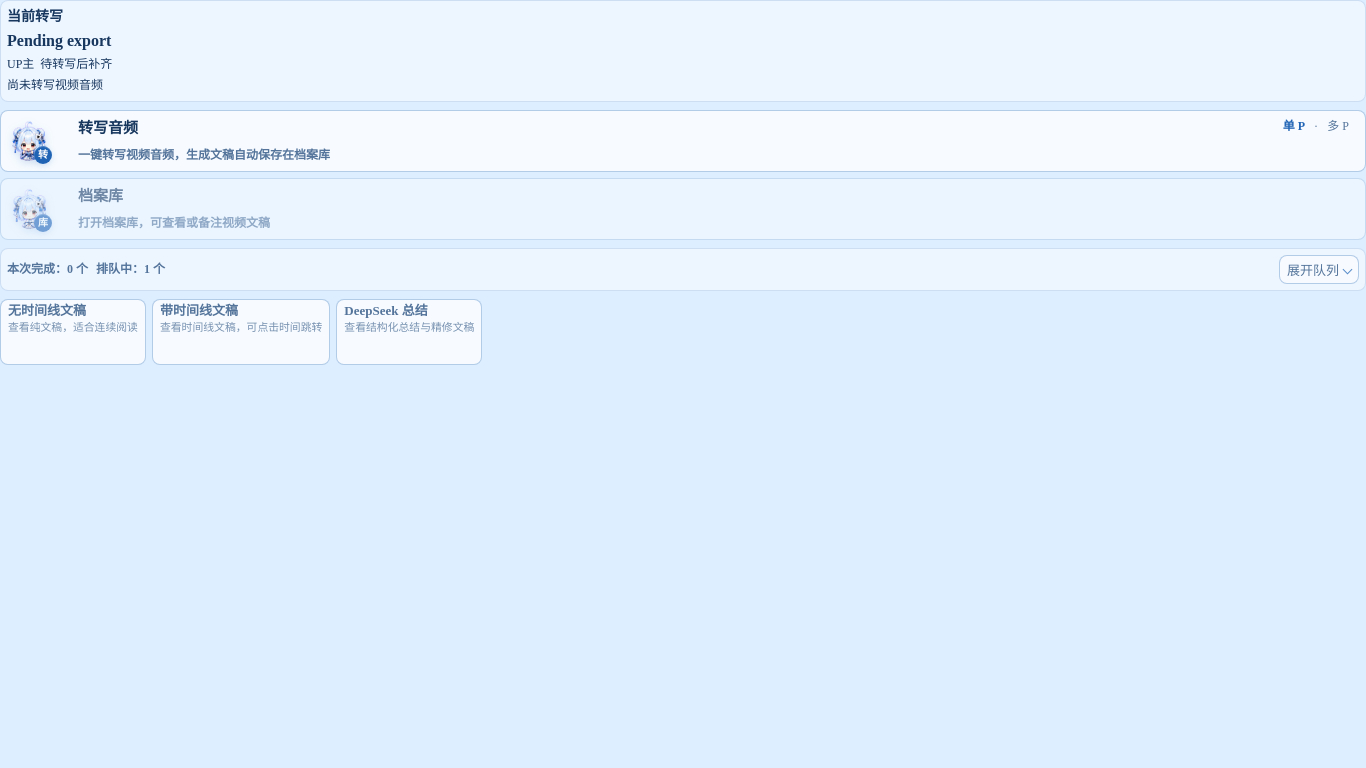
Test: VideoNotesPanel transcription queue › opens the export preview for one-account unresolved selections so their skipped count is visible
Click the button with aria-label "展开转写队列": (1319, 269) [1279,255,1359,284]
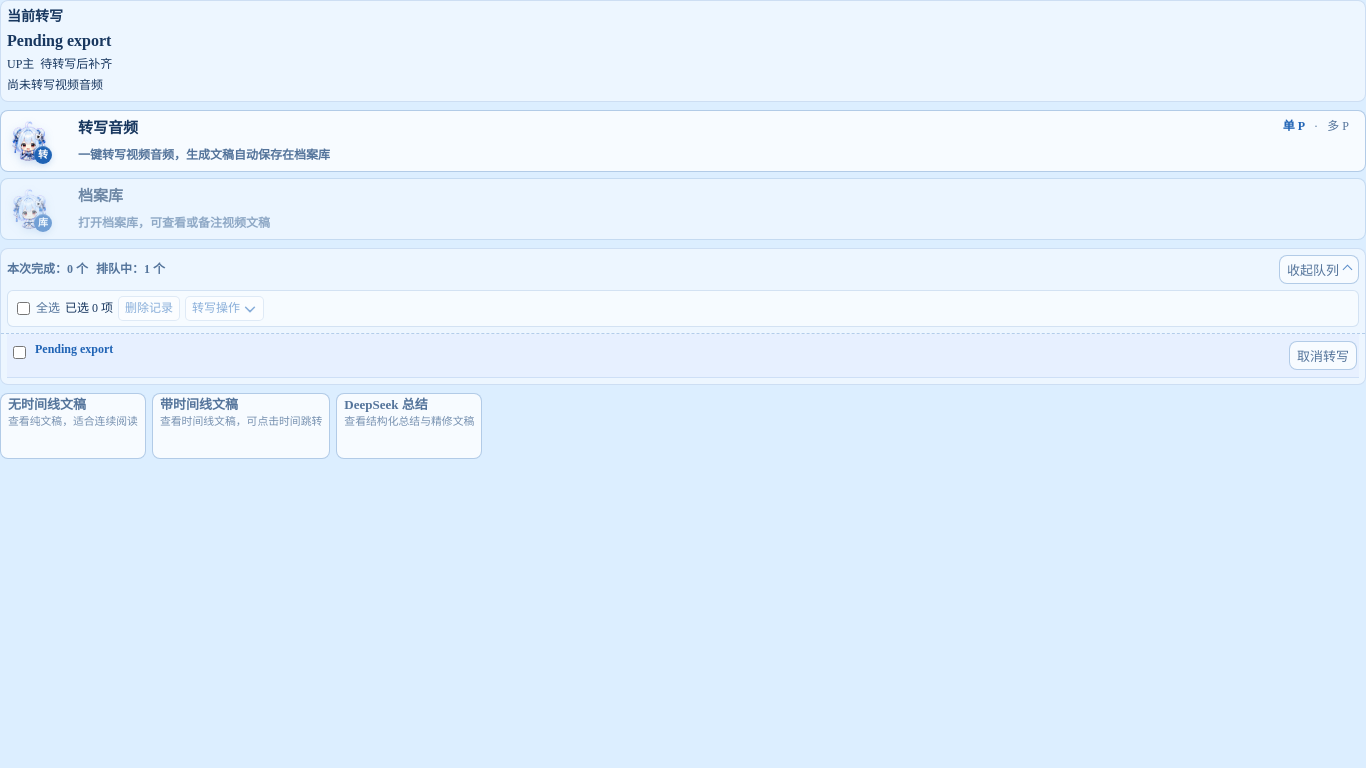
Click the checkbox named "选择 Pending export": (20, 353) [13,346,26,359]
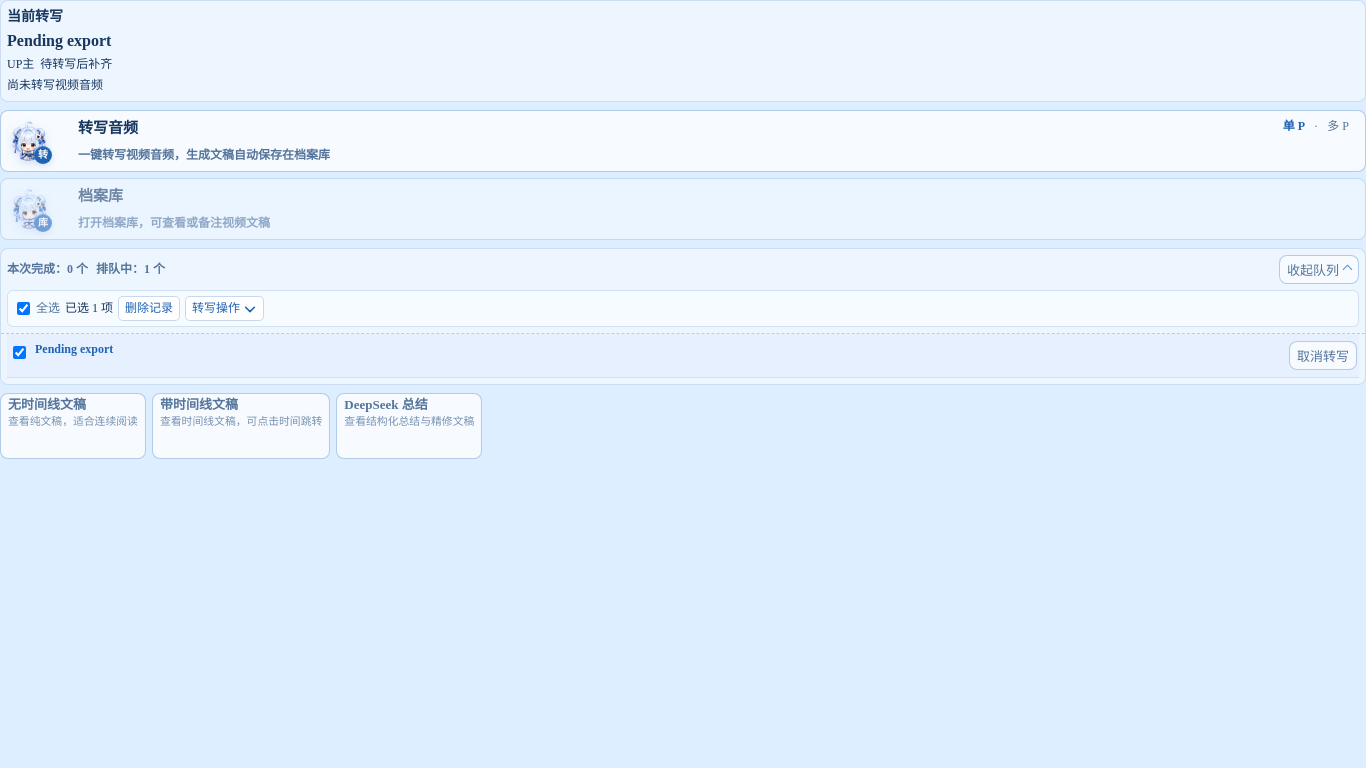
Click the button "转写操作": (225, 309) [185,296,264,321]
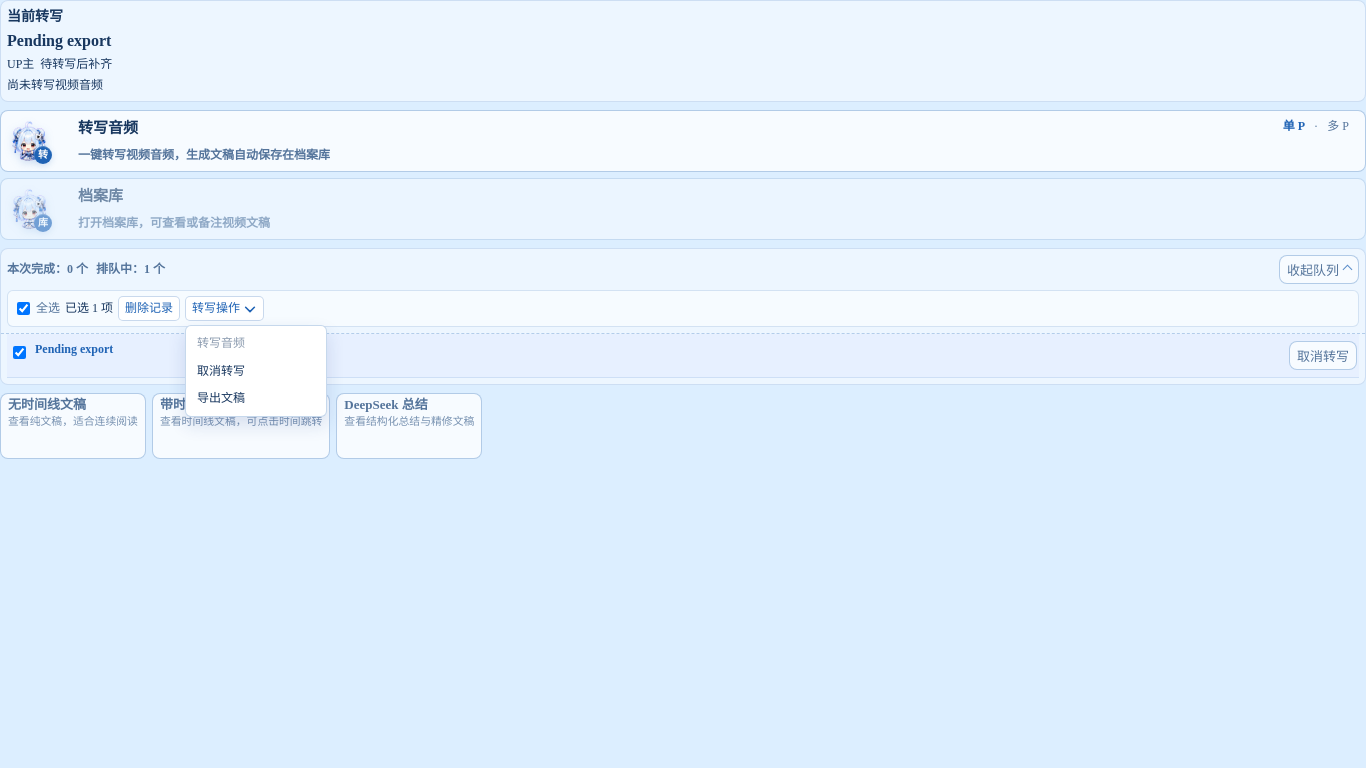
Result: the menu item "导出文稿" is enabled
Click the menu item "导出文稿": (256, 399) [190,385,322,412]
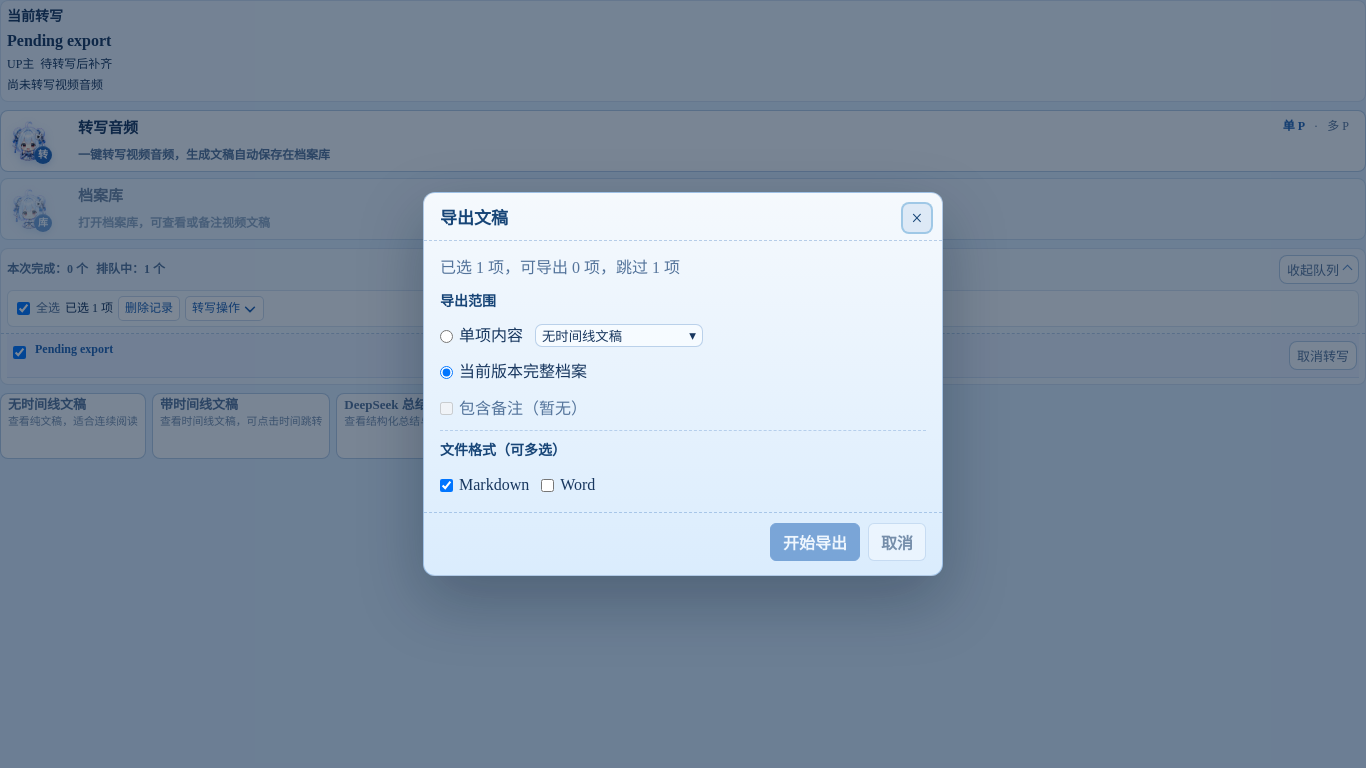
Result: the dialog "导出文稿" shows "已选 1 项，可导出 0 项，跳过 1 项" at [440,259,680,276]
Result: the button "开始导出" is disabled at [770,524,860,562]
